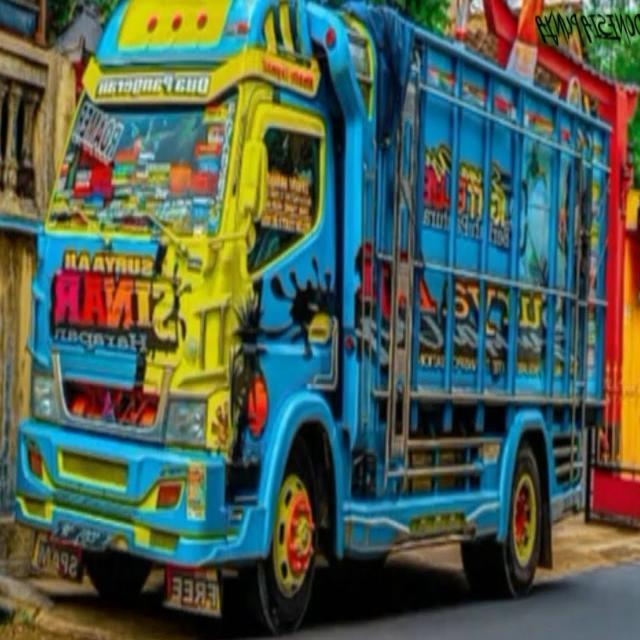truck: (15, 0, 612, 639)
